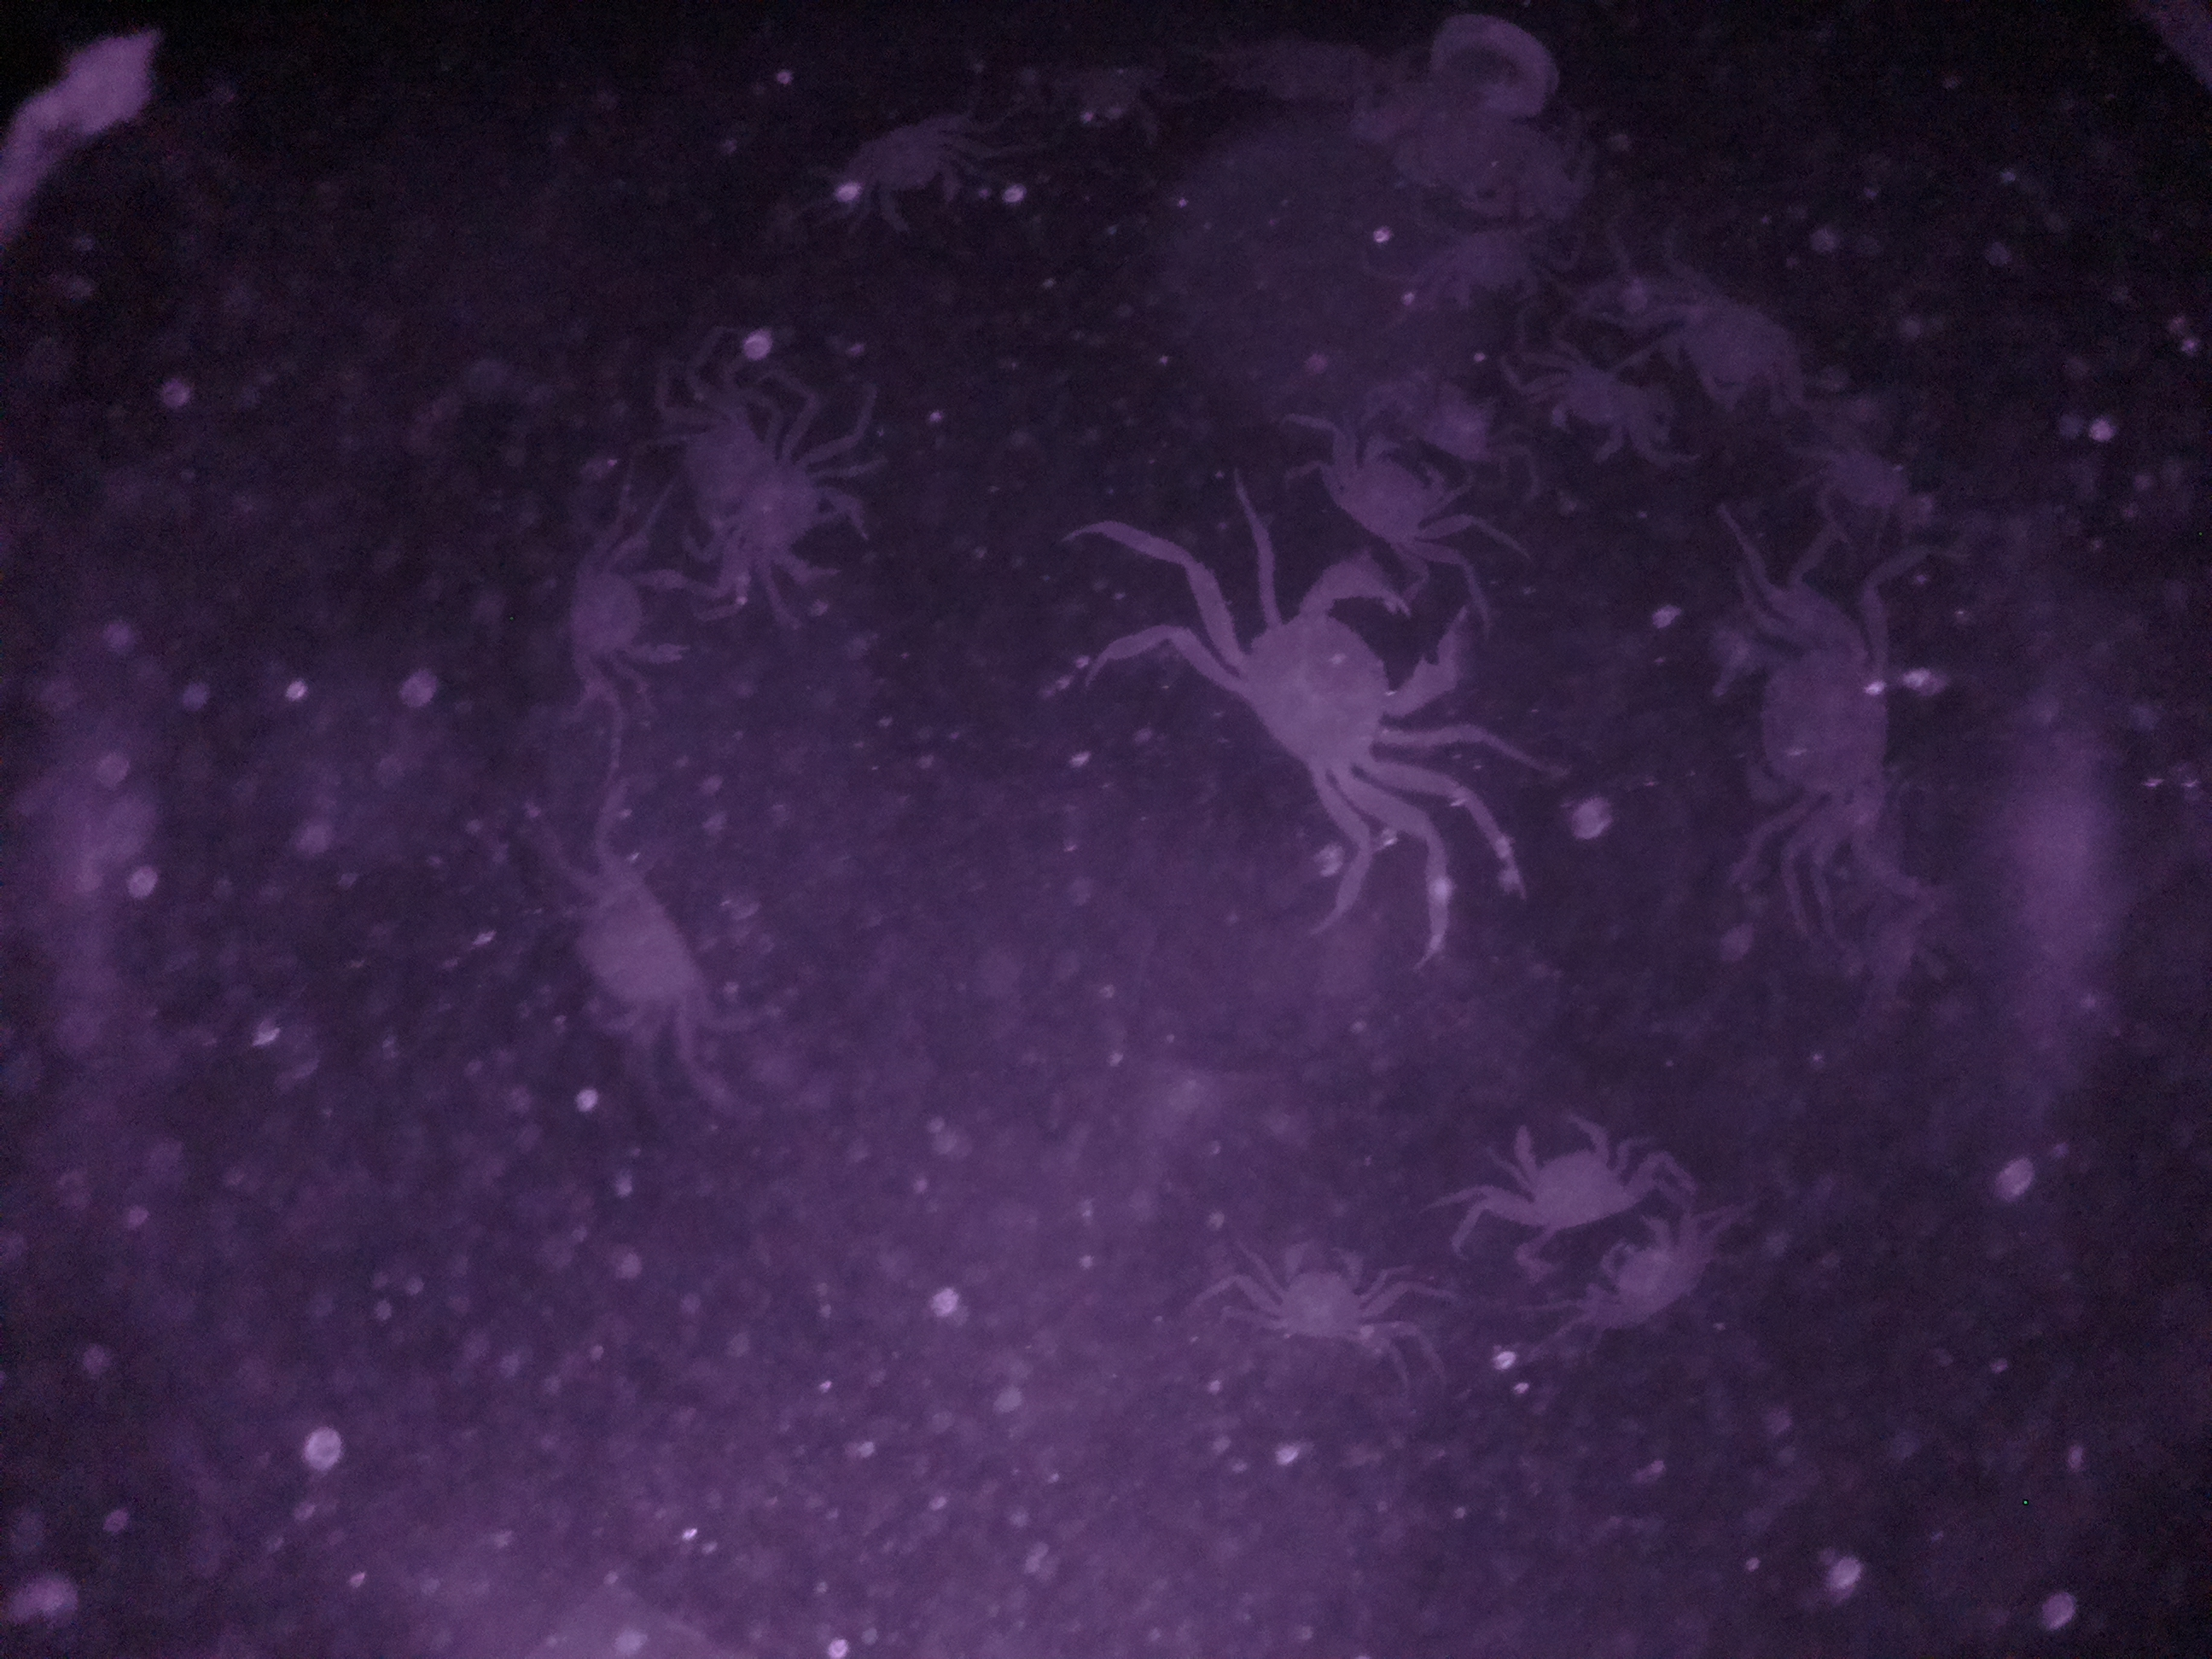Crab: (1193, 549, 1479, 823), (1712, 598, 1912, 857), (1491, 1100, 1655, 1248), (1313, 413, 1480, 558), (1233, 1229, 1404, 1361)
